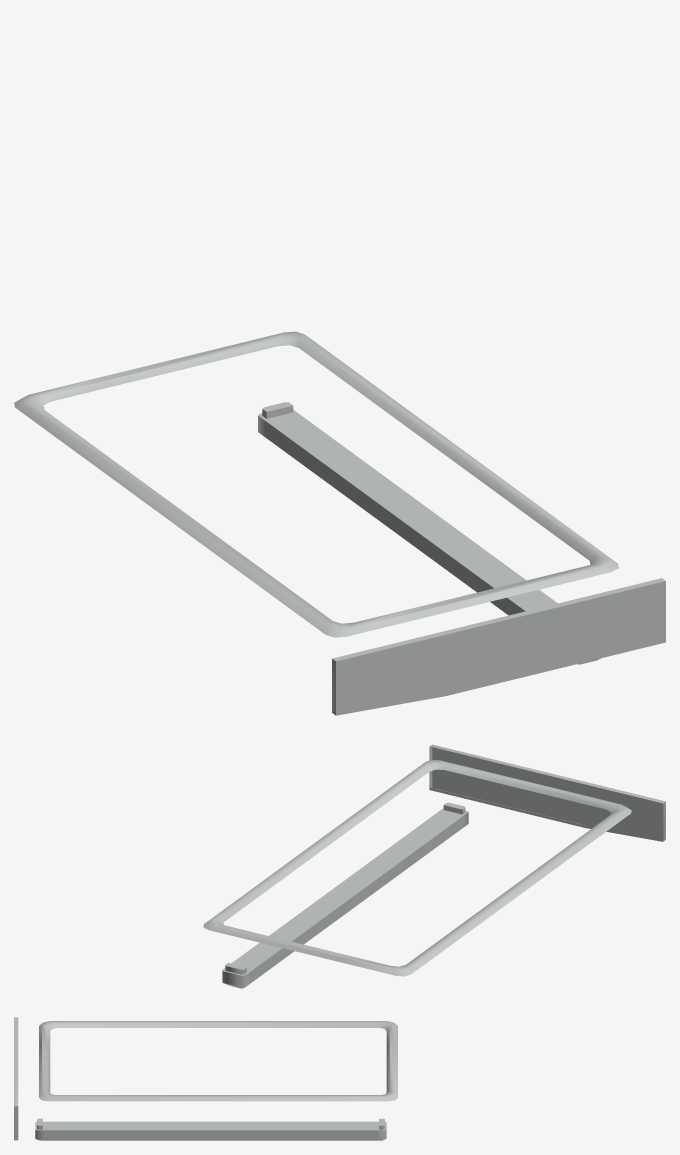
The model's file is MeshFridgeMaindoor2C6_7_GeomSubset_1.obj.
3 renders of one model, top to bottom at view 1: azimuth 30°, elevation 25°; view 2: azimuth 150°, elevation 25°; view 3: azimuth 270°, elevation 25°, orthographic. The views are drawn at different scales.
Visible parts, largest first — view 1: MeshFridgeMaindoor2C6_7_GeomSubset_1; view 2: MeshFridgeMaindoor2C6_7_GeomSubset_1; view 3: MeshFridgeMaindoor2C6_7_GeomSubset_1.
Part boxes in pixels (left/top/right/bottom): MeshFridgeMaindoor2C6_7_GeomSubset_1: left=14, top=331, right=665, bottom=715; MeshFridgeMaindoor2C6_7_GeomSubset_1: left=203, top=744, right=665, bottom=988; MeshFridgeMaindoor2C6_7_GeomSubset_1: left=14, top=1017, right=397, bottom=1140.
Size of the model in its own units: 0.5393 by 0.3414 by 1.67.
